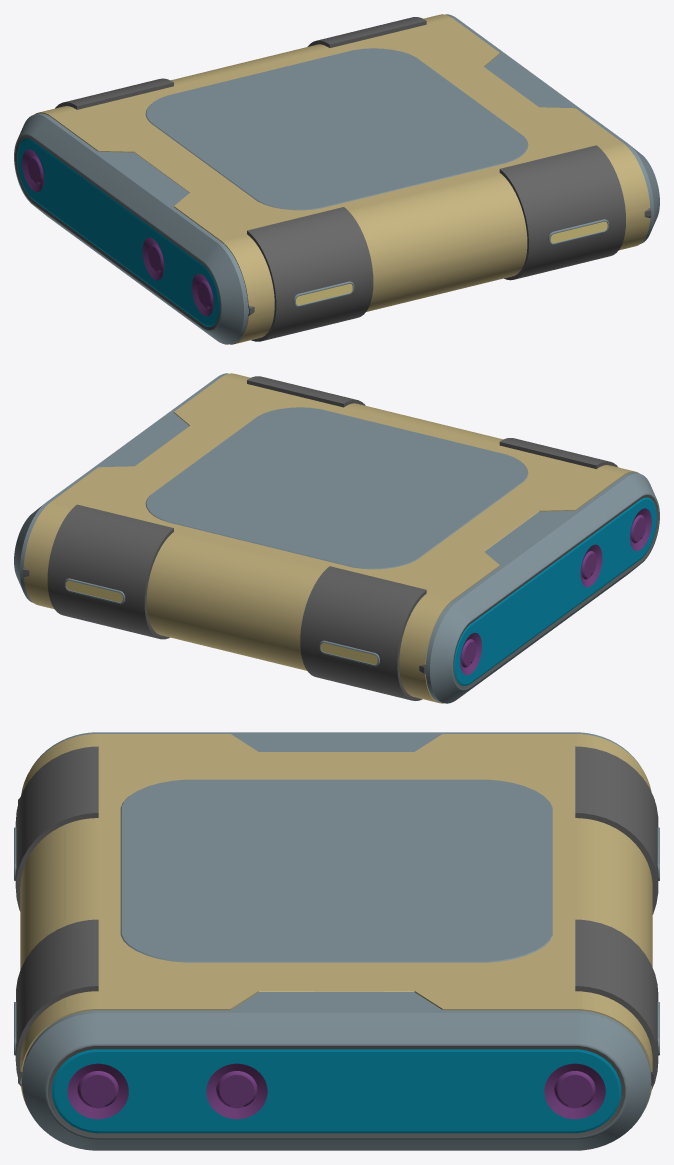
Rendered from env_building_warehouse01_lod1.fbx.
3 views of the same model, one above another, from view 1: azimuth 30°, elevation 25°; view 2: azimuth 150°, elevation 25°; view 3: azimuth 270°, elevation 25° (orthographic). The views are drawn at different scales.
Visible parts, largest first — view 1: env_building_warehouse01_lod1; view 2: env_building_warehouse01_lod1; view 3: env_building_warehouse01_lod1.
Boxes of the visible parts, <box> form: env_building_warehouse01_lod1: <box>14,14,659,344</box>; env_building_warehouse01_lod1: <box>14,373,659,703</box>; env_building_warehouse01_lod1: <box>14,732,659,1150</box>.
Bounding box in the file's own units: 567 × 133 × 516.
